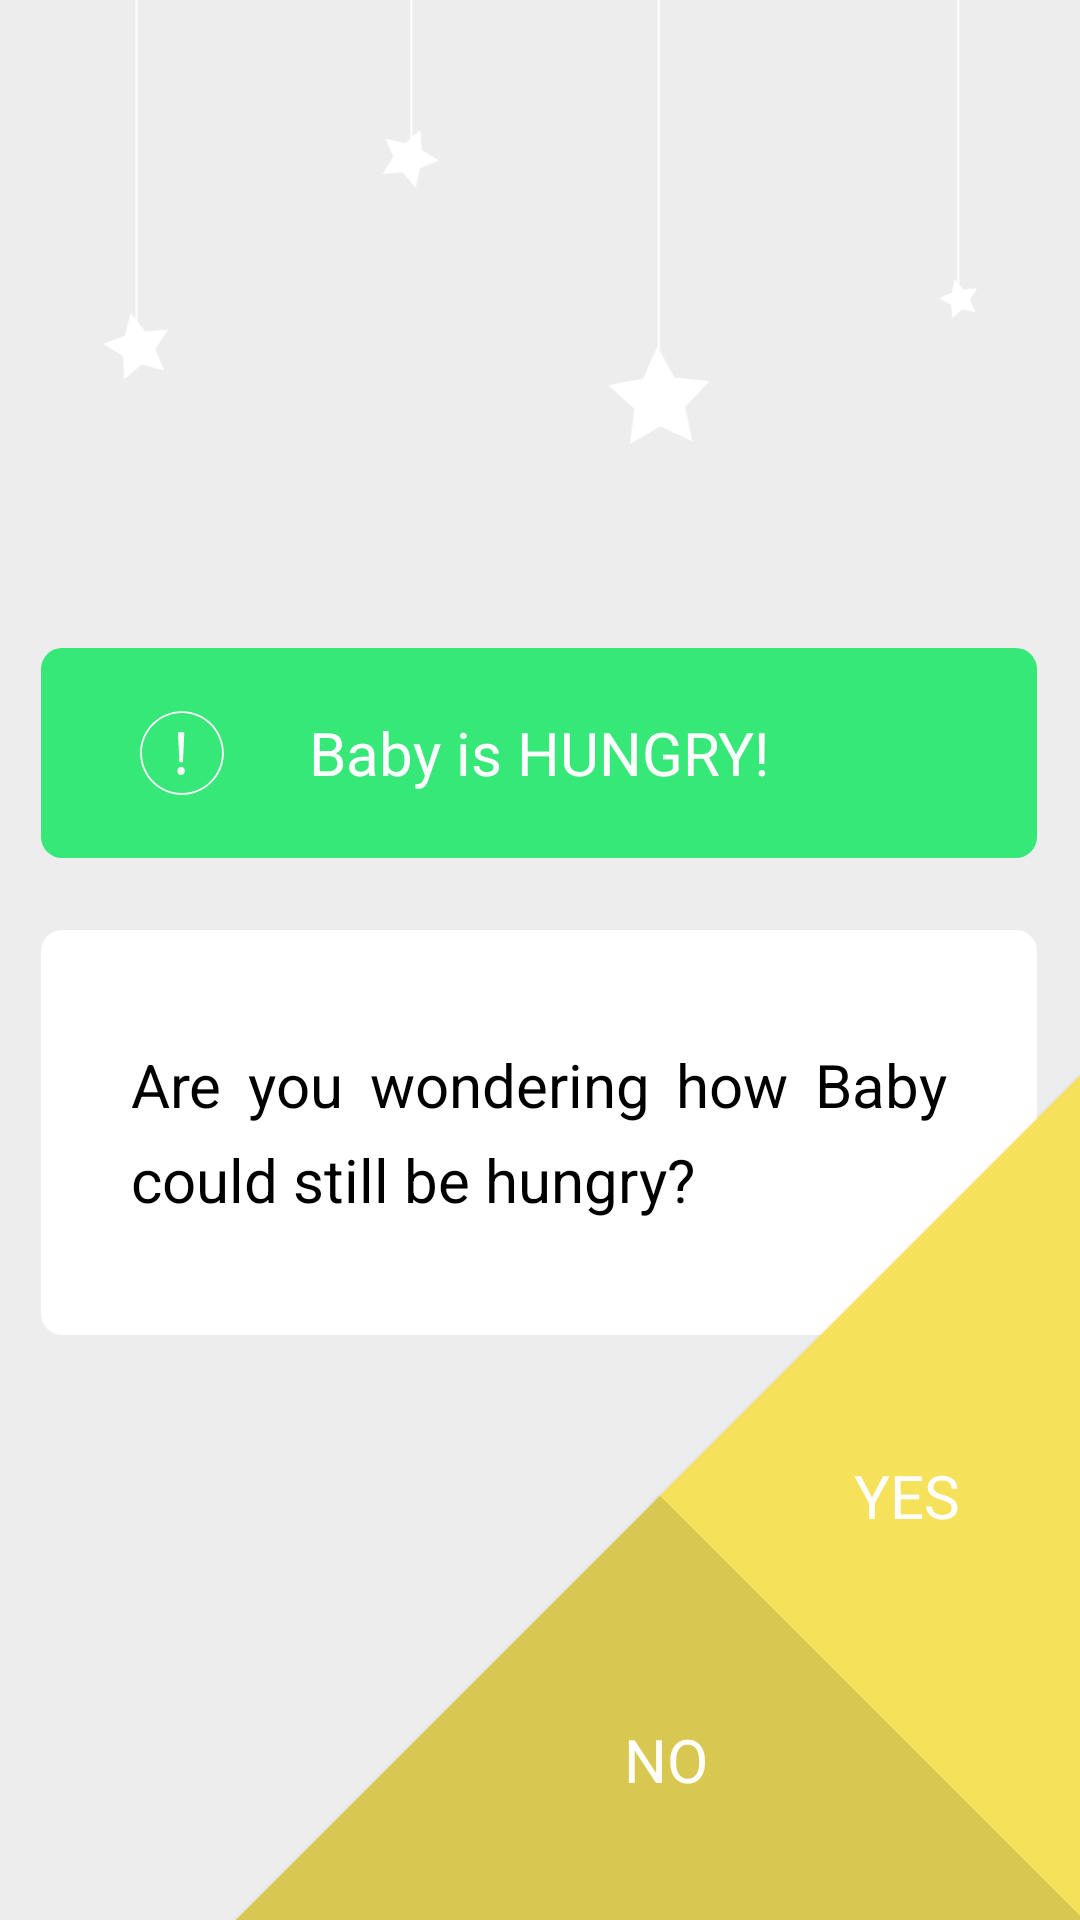

Locate icon controls on the screen. Image size 1080*1920, boxes as {"x1": x1, "y1": y1, "x2": x2, "y2": y2}.
exclamationpoint: {"x1": 140, "y1": 711, "x2": 224, "y2": 795}
